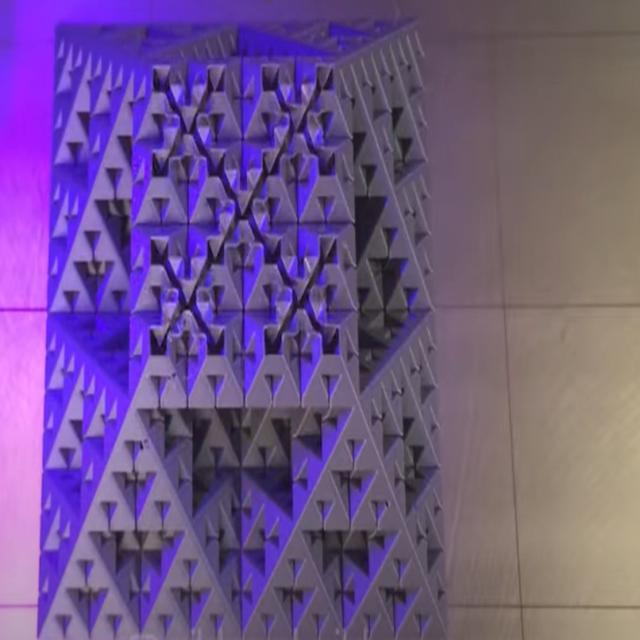Without deffect: (33, 12, 455, 640)
